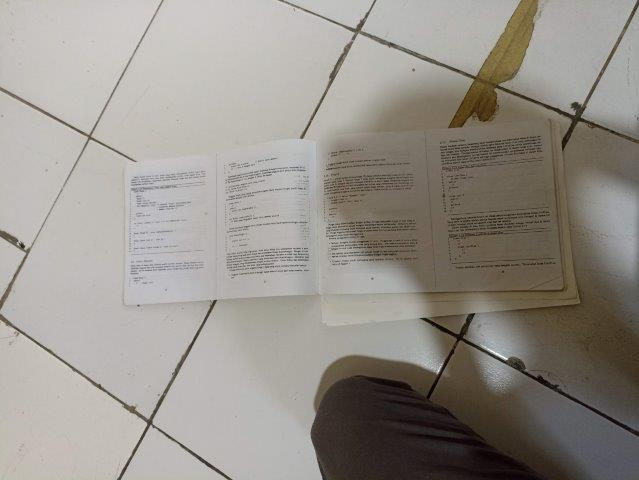kertas: (123, 118, 580, 325)
